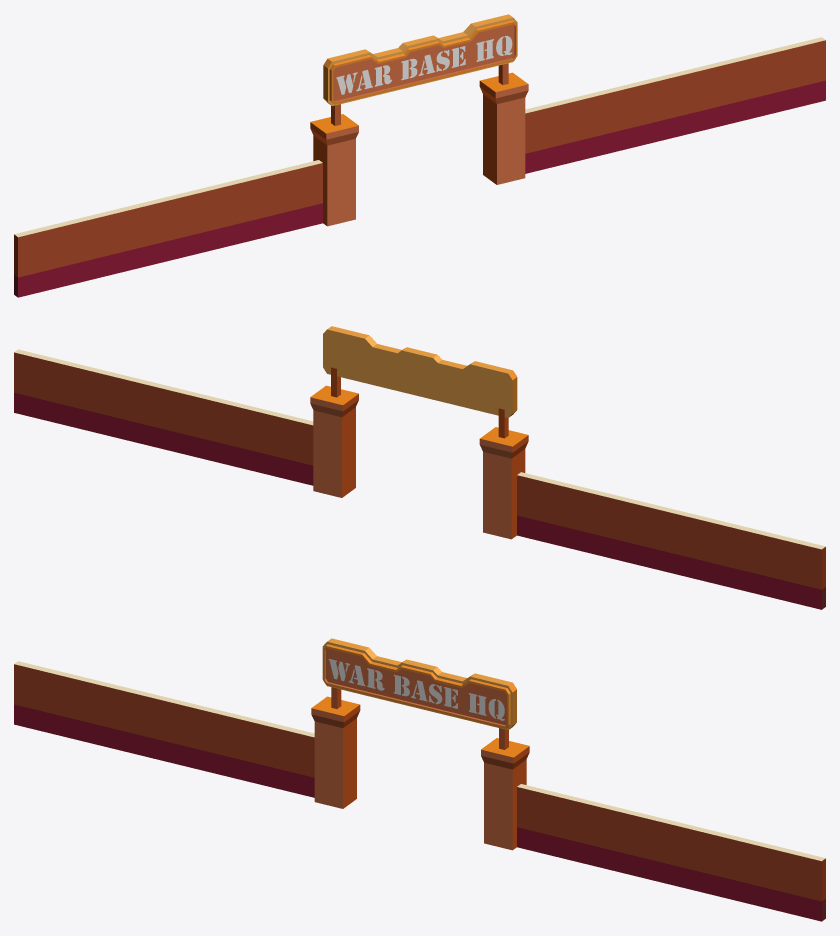
Rendered from Gate_winter.fbx.
3 views of the same model, one above another, from view 1: azimuth 30°, elevation 25°; view 2: azimuth 150°, elevation 25°; view 3: azimuth 330°, elevation 25° (orthographic).
Parts seen in each view (by area): view 1: wall31, column, column1, typeMesh3; view 2: wall31, column1, column, column2; view 3: wall31, column, column1, typeMesh3.
Part boxes in pixels (x1,y1,x2,y2): wall31: (14, 37, 825, 297); column: (310, 72, 528, 226); column1: (323, 14, 517, 106); typeMesh3: (336, 36, 512, 94); wall31: (14, 349, 825, 609); column1: (323, 326, 517, 417); column: (310, 385, 528, 539); column2: (331, 367, 508, 438); wall31: (14, 661, 825, 921); column: (311, 696, 529, 850); column1: (322, 638, 516, 730); typeMesh3: (328, 659, 504, 720).
Size of the model in its own units: 2800 by 529 by 96.12.
